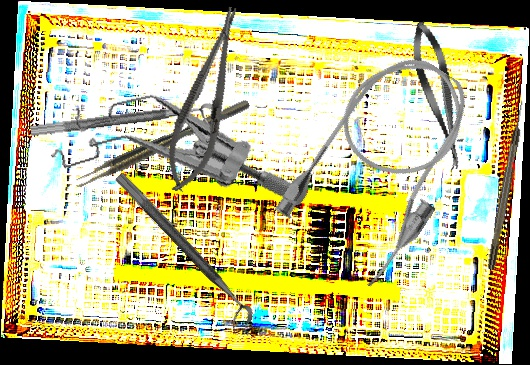Cannula: (267, 35, 501, 294)
Fixation Ring: (102, 171, 258, 335), (29, 101, 220, 153)
Hook Surgical: (485, 99, 528, 271)
Micro Scissor: (405, 18, 472, 173)
Needle Holder: (155, 0, 257, 199)
Speculum: (39, 65, 298, 247)
Tissue Forceps: (72, 98, 253, 191)
